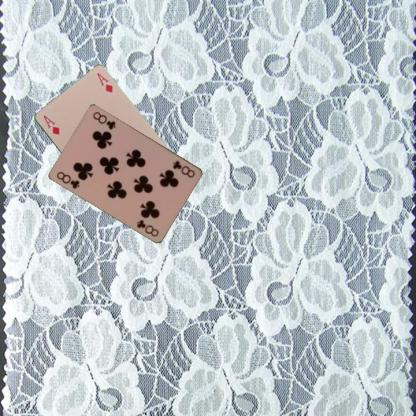8c: (54, 169, 81, 191), (170, 158, 196, 178)
Ad: (40, 113, 61, 136)
